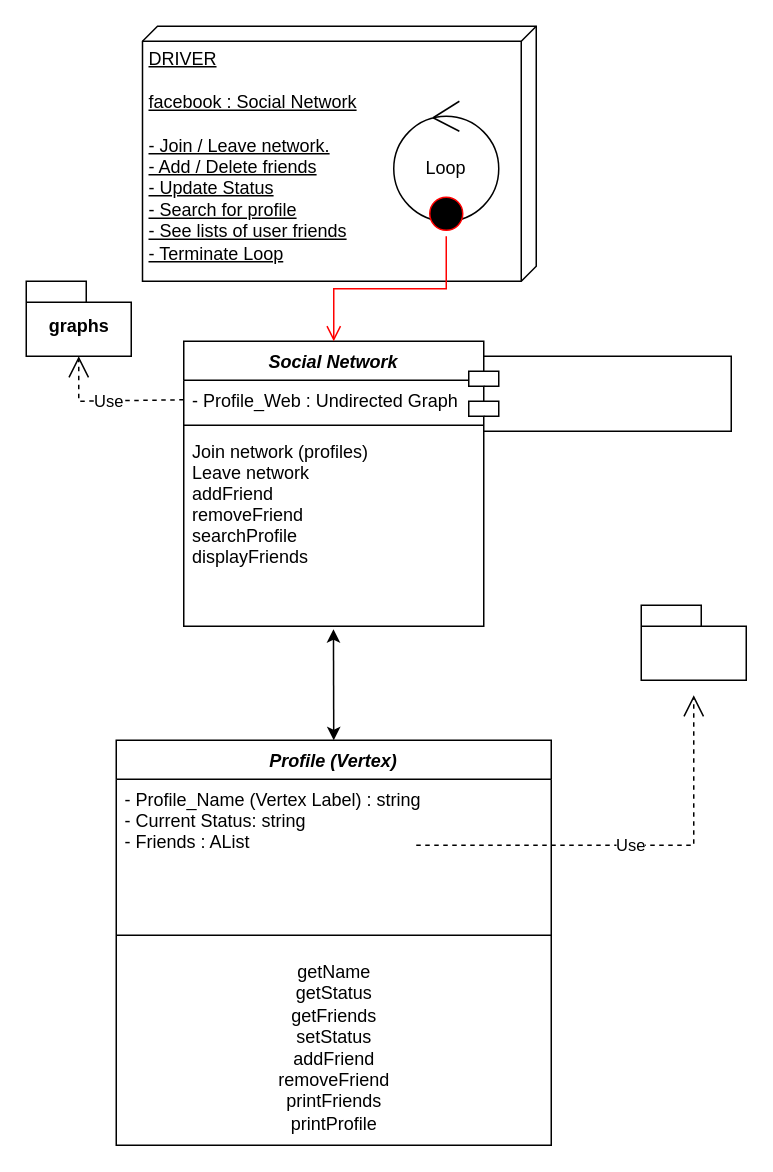
The diagram is 773 pixels wide and 1172 high, and some of its shapes have lost their labels. Each missing label, with the centre of its shape:
"GlobalVariables Facebook_Core_Node" goes at (x=599, y=393).
"lists" goes at (x=693, y=642).
